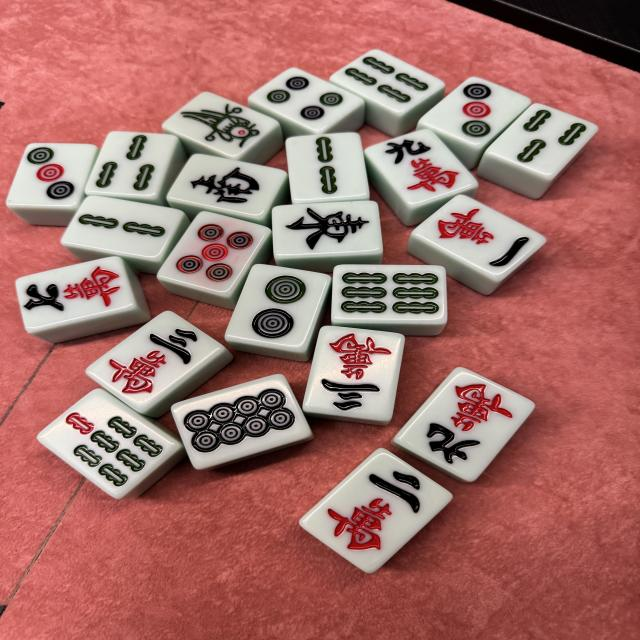hwe: (272, 201, 383, 258)
hws: (165, 153, 286, 217)
sb1: (162, 91, 278, 157)
sb2: (62, 196, 183, 260), (286, 131, 369, 203)
sb3: (487, 102, 598, 178), (84, 132, 178, 198)
sb4: (328, 49, 446, 115)
sb6: (329, 264, 446, 324)
sb7: (36, 388, 182, 498)
sc1: (412, 195, 546, 282)
sc2: (300, 447, 454, 572)
sc3: (86, 309, 224, 412), (304, 326, 403, 422)
sc7: (15, 257, 136, 332)
sc9: (392, 366, 534, 484), (364, 130, 479, 207)
sd2: (224, 263, 334, 353)
sd3: (418, 76, 531, 144), (6, 142, 97, 208)
sd4: (248, 65, 363, 134)
sd5: (156, 212, 270, 295)
sd8: (169, 374, 312, 470)
